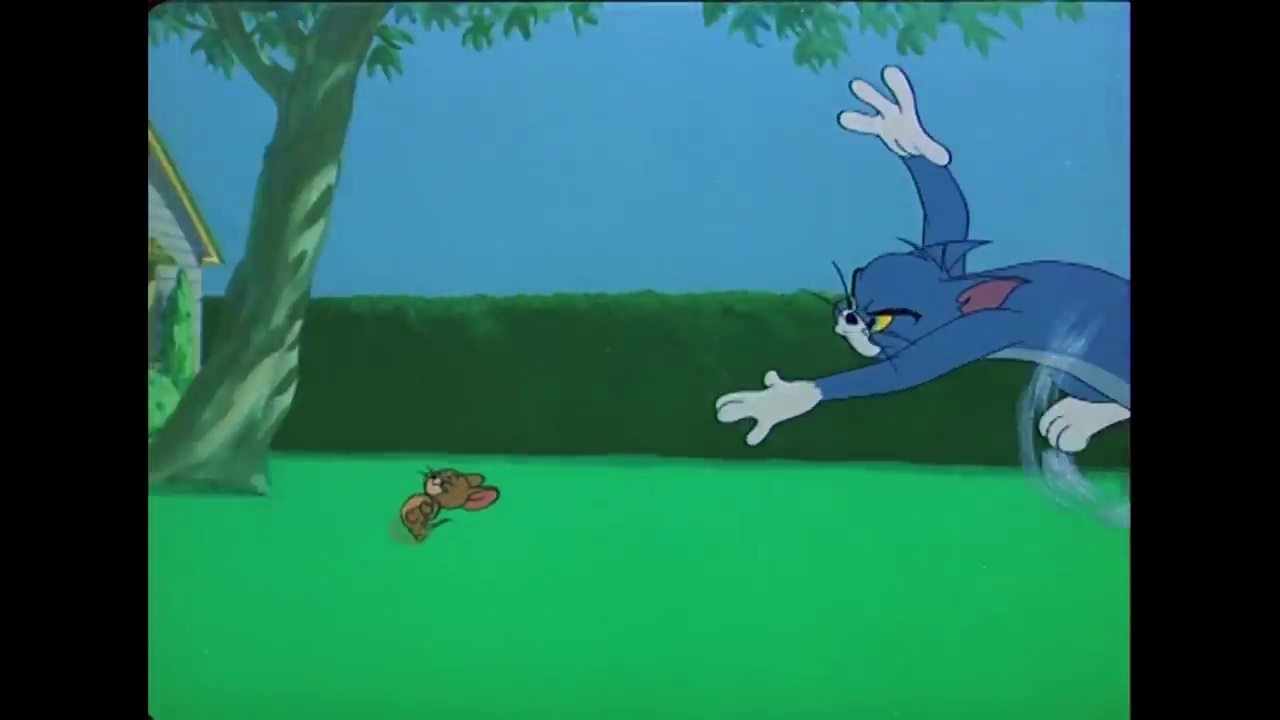tom: (826, 234, 1033, 370)
